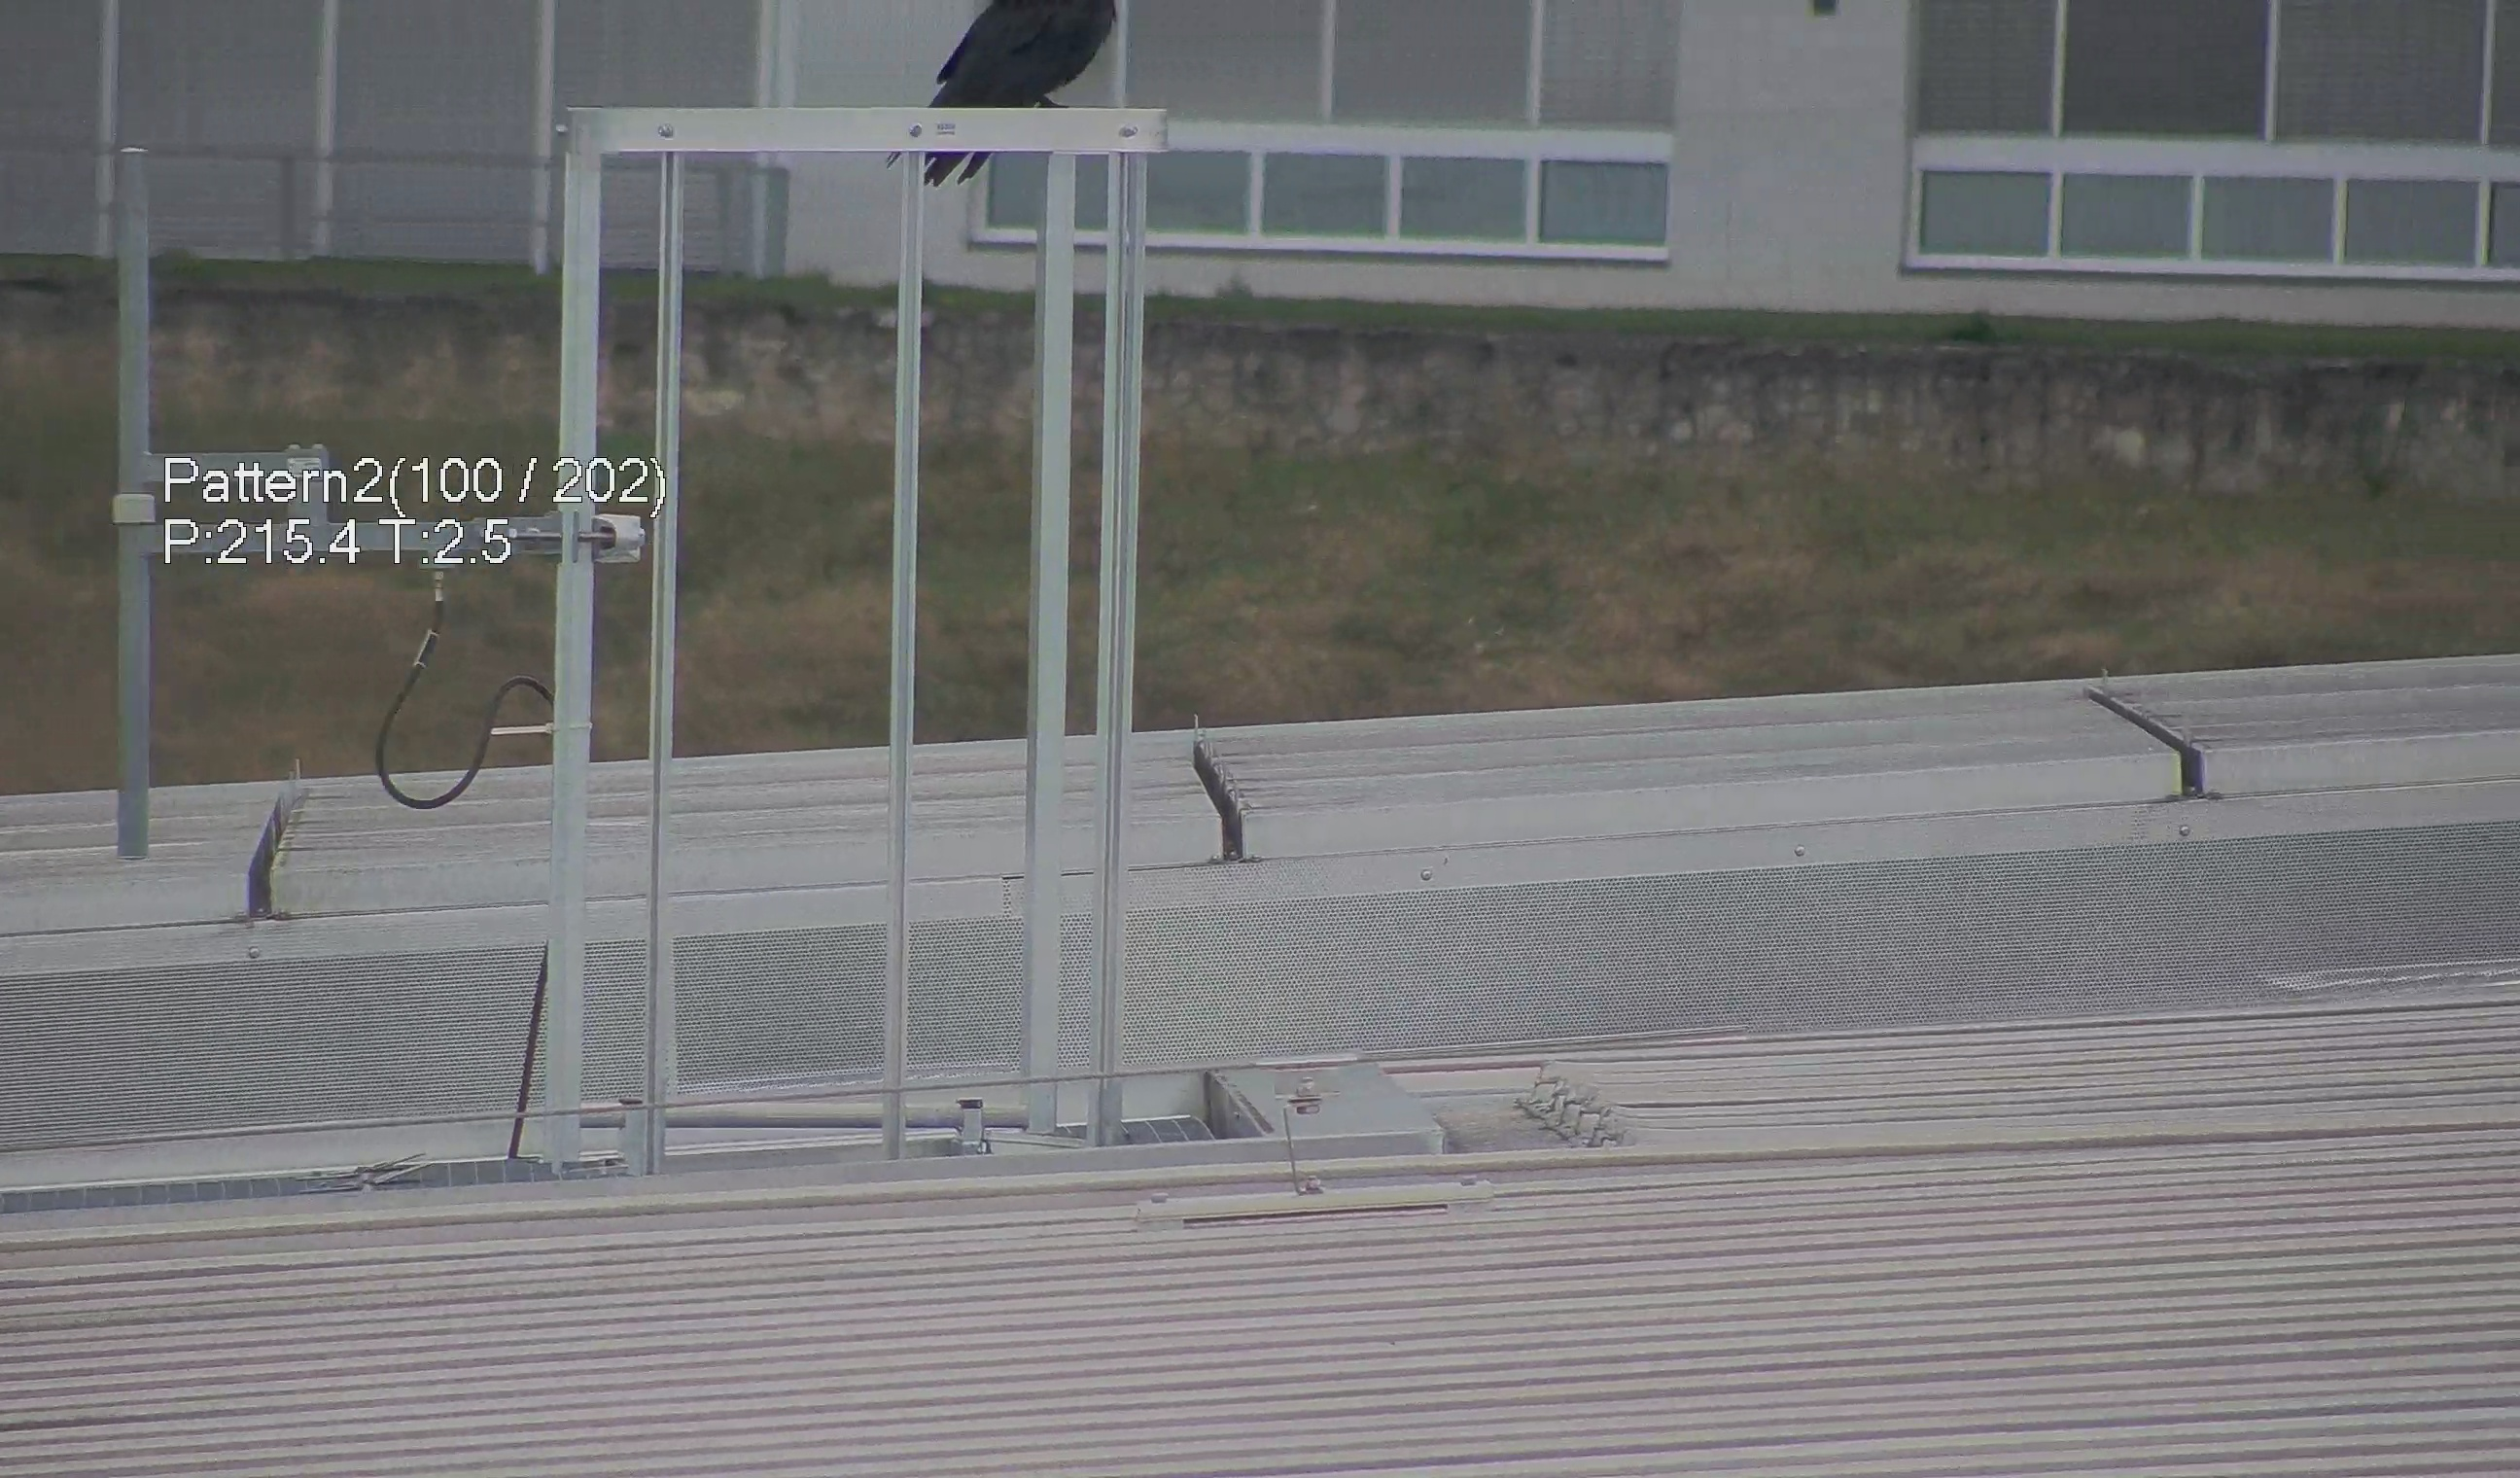Other: (909, 0, 1117, 121)
